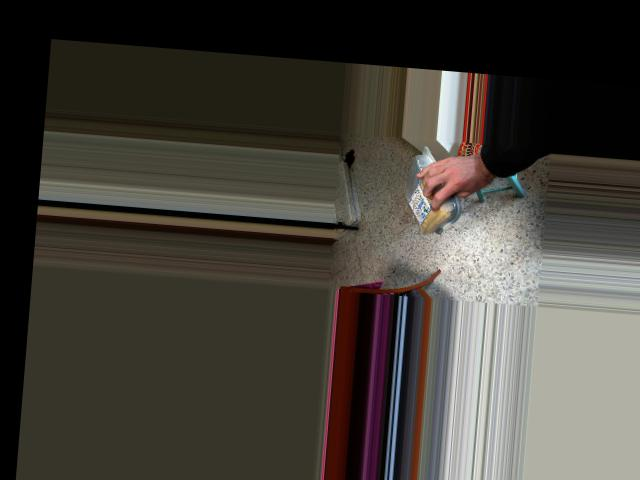cheese: (405, 151, 453, 243)
